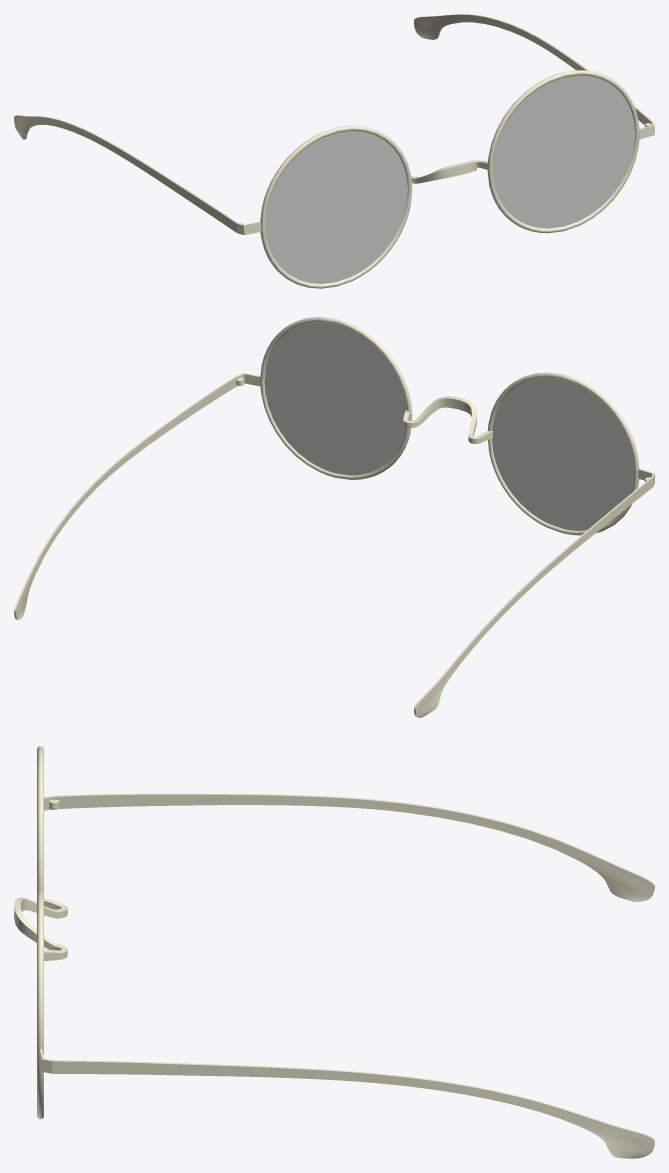
Rendered from 1069_gold_frame_round_glasses.glb.
3 renders of one model, top to bottom at view 1: azimuth 30°, elevation 25°; view 2: azimuth 150°, elevation 25°; view 3: azimuth 270°, elevation 25°, orthographic. The views are drawn at different scales.
Visible parts, largest first — view 1: Body, つる1, つる2; view 2: Body, つる1, つる2; view 3: つる2, つる1, Body.
Boxes of the visible parts, <box> form: Body: <box>237,70,654,288</box>; つる1: <box>14,115,237,232</box>; つる2: <box>414,14,652,127</box>; Body: <box>236,317,654,535</box>; つる1: <box>414,477,653,717</box>; つる2: <box>14,375,243,619</box>; つる2: <box>52,1060,654,1158</box>; つる1: <box>49,793,654,901</box>; Body: <box>14,746,67,1119</box>.
Size of the model in its own units: 0.1232 by 0.0433 by 0.1215.
